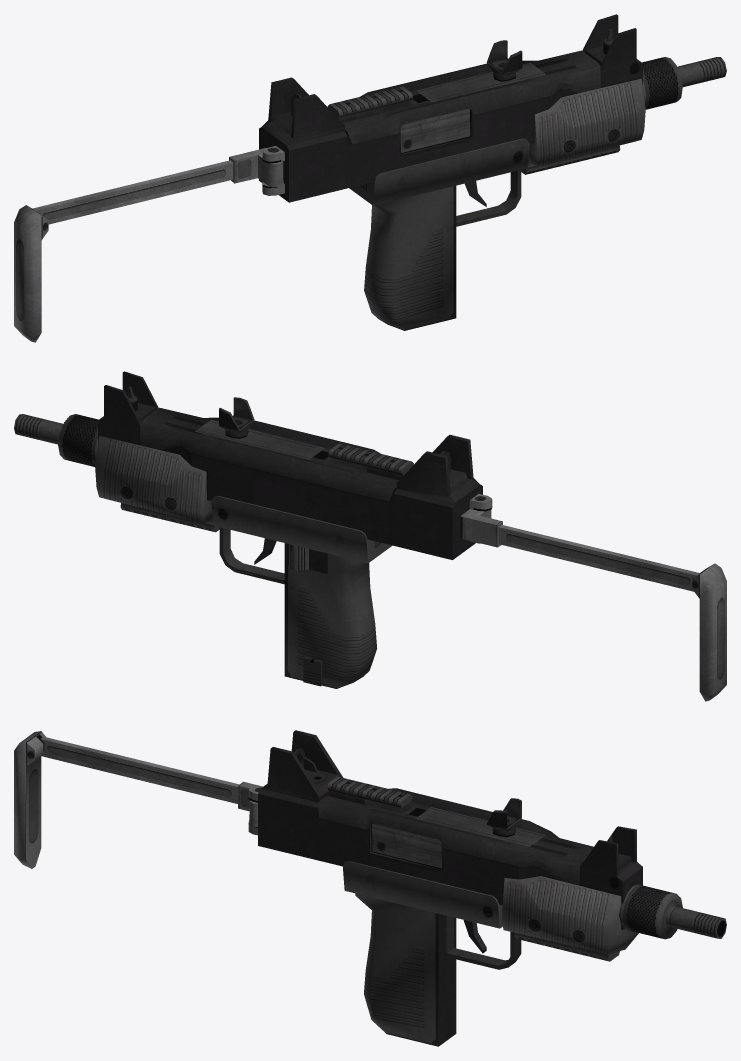
The model's file is uzi.glb.
The picture shows the model from 3 angles, top to bottom: view 1: azimuth 30°, elevation 25°; view 2: azimuth 150°, elevation 25°; view 3: azimuth 330°, elevation 25°; orthographic projection.
Parts seen in each view (by area): view 1: Gun_Root.005; view 2: Gun_Root.005; view 3: Gun_Root.005.
Part boxes in pixels (x1,y1,x2,y2): Gun_Root.005: (14,14,726,342); Gun_Root.005: (14,371,726,701); Gun_Root.005: (14,730,726,1046).
Bounding box in the file's own units: 1.37 × 0.4883 × 0.1196.
Materials: 1 (1 with a texture image).
